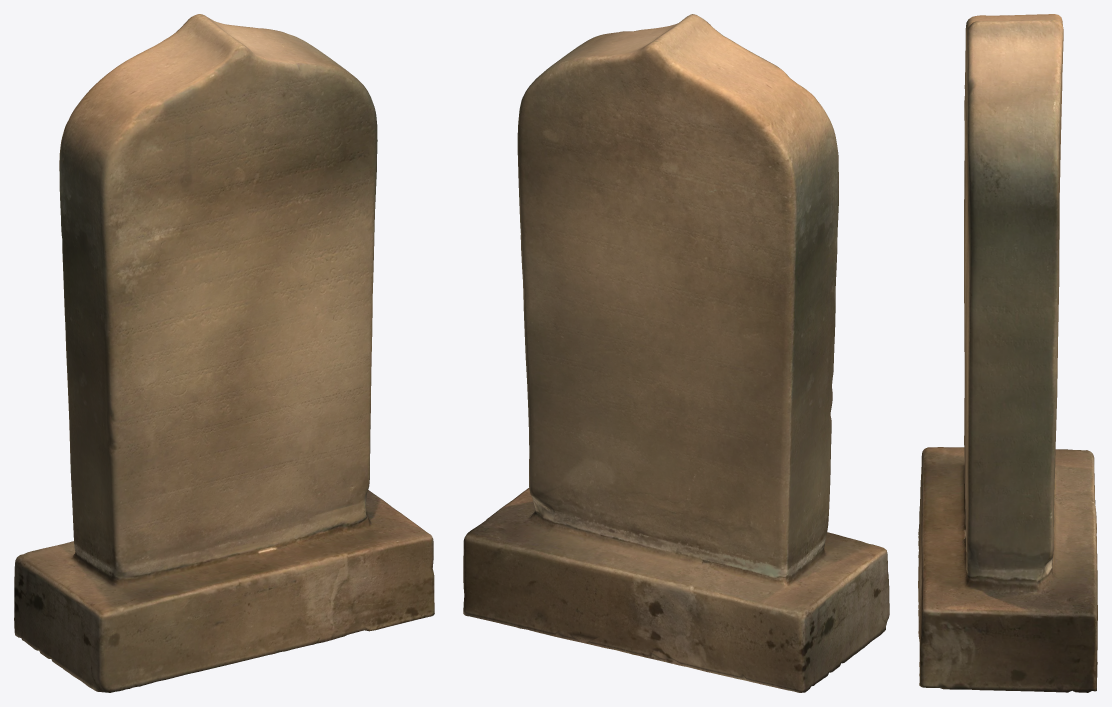
Rendered from 5_biada_final.glb.
3 views of the same model, side by side, from view 1: azimuth 30°, elevation 25°; view 2: azimuth 150°, elevation 25°; view 3: azimuth 270°, elevation 25° (orthographic).
Size of the model in its own units: 0.6202 by 1.04 by 0.2874.
Materials: 1 (1 with a texture image).
